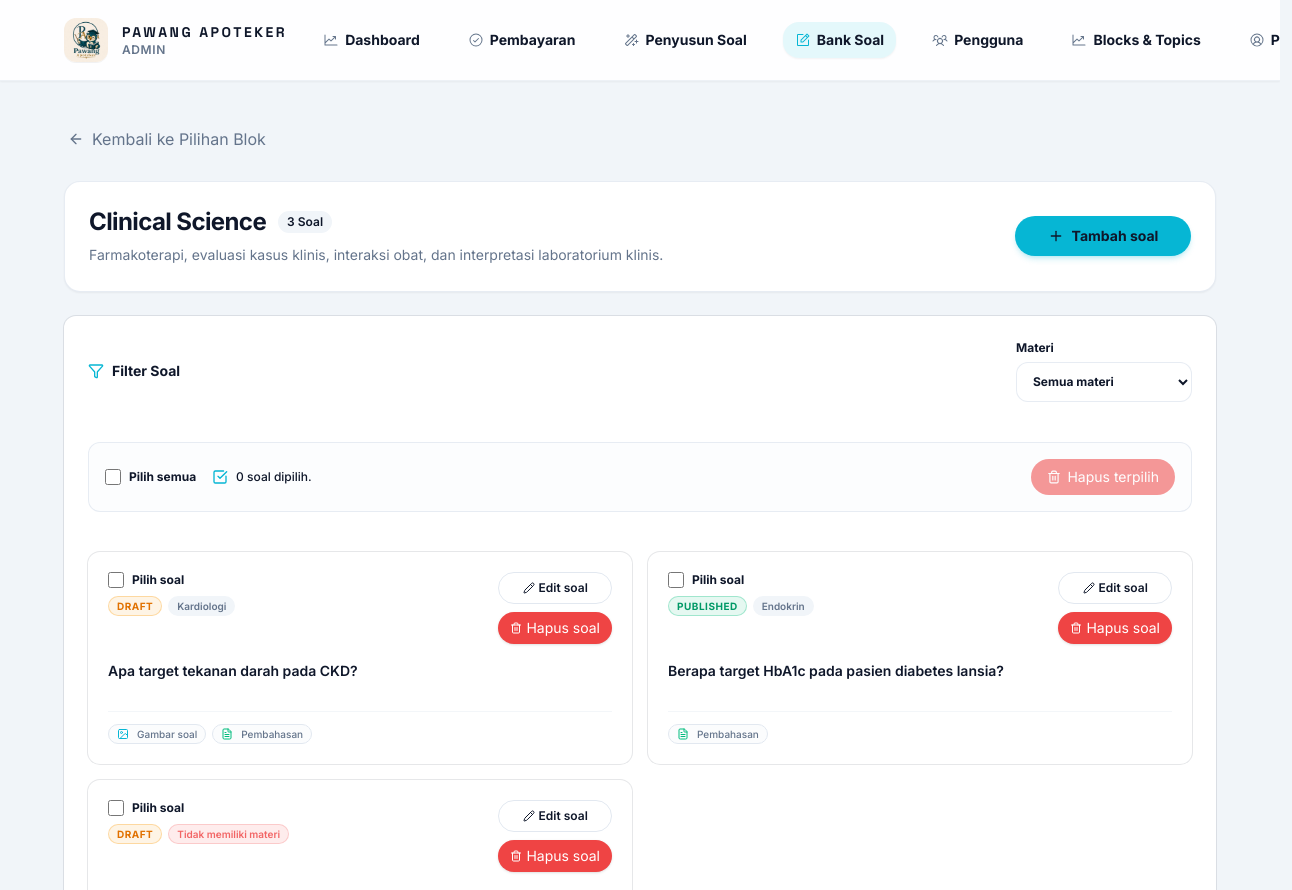
Test: QuestionsPage - Block selection and list integration › inside a block, block dropdown is absent, only materi dropdown exists, and filtering strictly applies
Expected: the heading "Apa target tekanan darah pada CKD?" is shown, [108, 662, 358, 679]
Note: Filter strictly to "Kardiologi"
Step 1. Select "Kardiologi" in the dropdown labelled "Materi" → (1104, 382), box [1016, 362, 1192, 402]
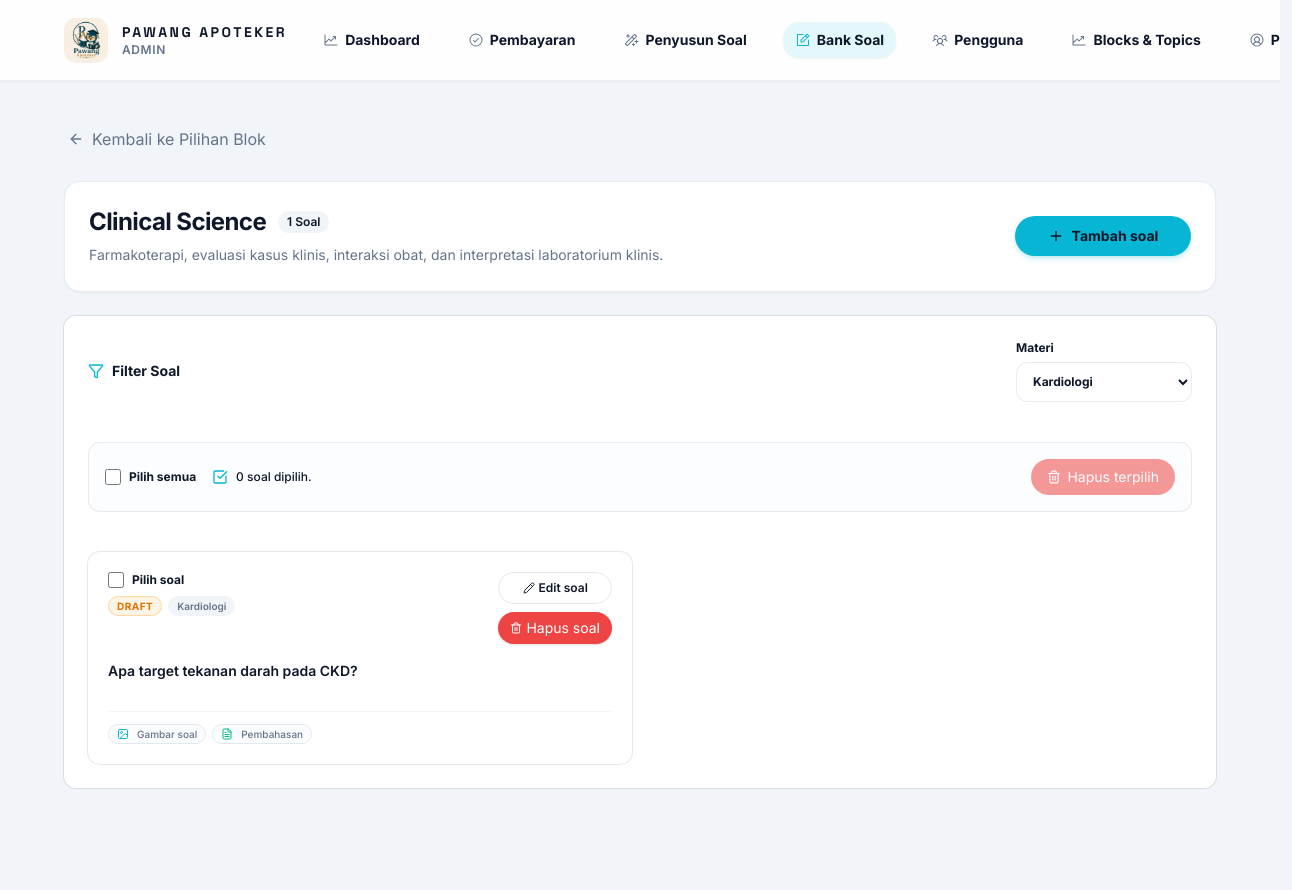
Expected: the heading "Apa target tekanan darah pada CKD?" is shown, [108, 662, 358, 679]
Result: the heading "Berapa target HbA1c pada pasien diabetes lansia" is gone
